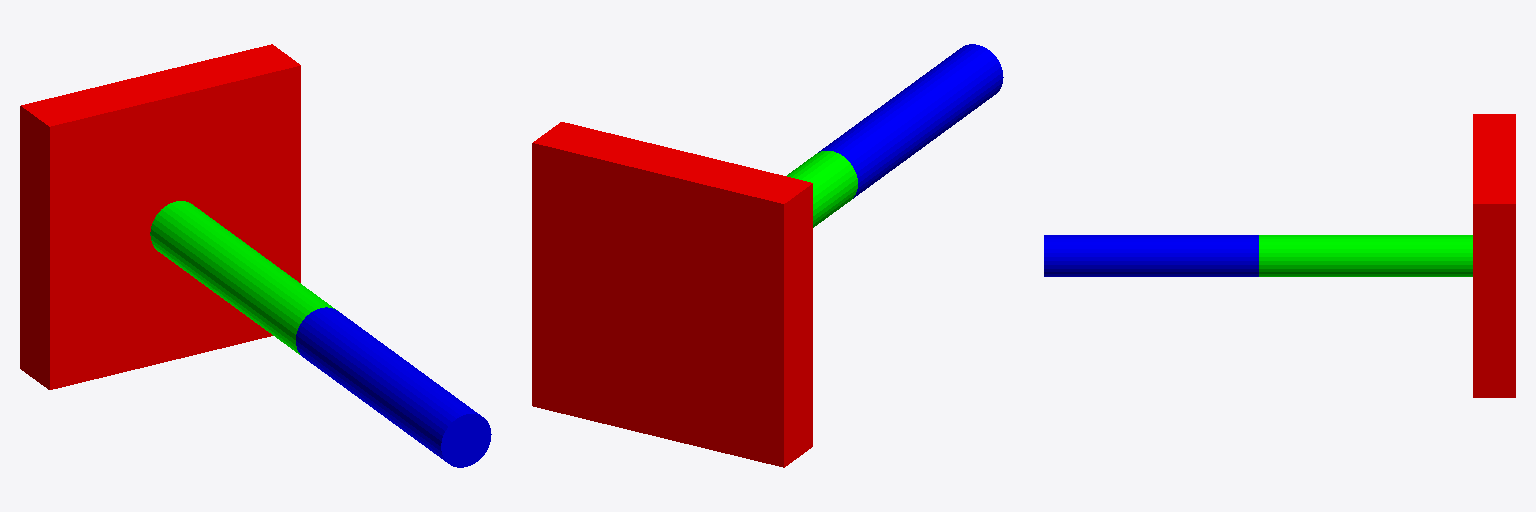
robot.urdf — SimpleDoublePendulum:
<?xml version="1.0"?>
<!-- Comments in this file use frames as defined in the C++ Doxygen module
"Frames and Bodies",
<<<<<<< HEAD
https://drake.mit.edu/doxygen_cxx/group__multibody__frames__and__bodies.html.
=======
http://drake.mit.edu/doxygen_cxx/group__multibody__frames__and__bodies.html.
>>>>>>> intial
In particular, this file refers to the link frame L, the body frame B, the
inertia frame I and the joint inboard frame F. -->
<robot name="SimpleDoublePendulum">
  <!-- Defines some colors to distinguish between the links. -->
  <material name="Red">
    <color rgba="1 0 0 1"/>
  </material>
  <material name="Green">
    <color rgba="0 1 0 1"/>
  </material>
  <material name="Blue">
    <color rgba="0 0 1 1"/>
  </material>
  <!-- The base link (i.e., the link that is not a child of any joint) is
  defined in the world frame. -->
  <link name="base">
    <inertial>
      <origin rpy="0 0 0" xyz="0 0 0"/>
      <mass value="1"/>
      <inertia ixx="0" ixy="0" ixz="0" iyy="0" iyz="0" izz="0"/>
    </inertial>
    <visual>
      <origin xyz="0 0.1 0"/>
      <geometry>
        <box size="1 0.2 1"/>
      </geometry>
      <material name="Red"/>
    </visual>
  </link>
  <link name="upper_arm">
    <inertial>
      <origin rpy="0 0 0" xyz="0 -0.5 0"/>
      <mass value="1"/>
      <inertia ixx="0" ixy="0" ixz="0" iyy="0" iyz="0" izz="0"/>
    </inertial>
    <!-- The visual geometry is a cylinder defined in the visualization frame,
    V. The cylinder's radius is about its +Z axis. Since the link's frame, B,
    is oriented such that its +Y axis is up, we need to rotate frame V by PI / 2
    about its +X axis (roll) to make the cylinder upright in frame B. -->
    <visual>
      <!-- This provides the pose X_BV of the visual frame V measured and
      expressed in the body frame B. -->
      <origin rpy="1.57079632679 0 0" xyz="0 -0.5 0"/>
      <geometry>
        <cylinder length="1.0" radius="0.1"/>
      </geometry>
      <material name="Green"/>
    </visual>
  </link>
  <link name="lower_arm">
    <inertial>
      <origin rpy="0 0 0" xyz="0 -0.5 0"/>
      <mass value="1"/>
      <inertia ixx="0" ixy="0" ixz="0" iyy="0" iyz="0" izz="0"/>
    </inertial>
    <!-- The visual geometry is a cylinder defined in the visualization frame,
    V. The cylinder's radius is about its +Z axis. Since the link's frame, B,
    is oriented such that its +Y axis is up, we need to rotate frame V by PI / 2
    about its +X axis (roll) to make the cylinder upright in frame B. -->
    <visual>
      <!-- This provides the pose X_BV of the visual frame V measured and
      expressed in the body frame B. -->
      <origin rpy="1.57079632679 0 0" xyz="0 -0.5 0"/>
      <geometry>
        <cylinder length="1.0" radius="0.1"/>
      </geometry>
      <material name="Blue"/>
    </visual>
  </link>
  <joint name="joint1" type="continuous">
    <parent link="base"/>
    <child link="upper_arm"/>
    <origin rpy="0 0 0" xyz="0 0.0 0"/>
    <axis xyz="0 0 1"/>
    <dynamics damping="0.1"/>
  </joint>
  <joint name="joint2" type="continuous">
    <parent link="upper_arm"/>
    <child link="lower_arm"/>
    <origin rpy="0 0 0" xyz="0 -1.0 0"/>
    <axis xyz="0 0 1"/>
    <dynamics damping="0.1"/>
  </joint>
  <!-- The following are color specifications for use by the Gazebo simulator.
  They are needed to visualize link colors in Gazebo. -->
  <gazebo reference="base">
    <material>Gazebo/Red</material>
  </gazebo>
  <gazebo reference="upper_arm">
    <material>Gazebo/Green</material>
  </gazebo>
  <gazebo reference="lower_arm">
    <material>Gazebo/Blue</material>
  </gazebo>
</robot>

--- Render facts (derived) ---
Views: 3 orthographic renders of the robot side by side, from view 1: azimuth 30°, elevation 25°; view 2: azimuth 150°, elevation 25°; view 3: azimuth 270°, elevation 25°.
Robot: SimpleDoublePendulum — 3 links, 2 joints (2 continuous); root link base; default pose: every joint at zero.
Links seen in each view (by area): view 1: base, lower_arm, upper_arm; view 2: base, lower_arm, upper_arm; view 3: base, lower_arm, upper_arm.
Link boxes in pixels (x1,y1,x2,y2): base: [20, 44, 300, 389]; lower_arm: [296, 307, 491, 467]; upper_arm: [150, 201, 337, 354]; base: [532, 122, 812, 467]; lower_arm: [818, 44, 1003, 198]; upper_arm: [787, 151, 857, 227]; base: [1473, 114, 1515, 397]; lower_arm: [1044, 235, 1258, 276]; upper_arm: [1259, 235, 1472, 276].
Bounding box of the posed robot: 1 × 2.2 × 1 m (x, y, z).
Geometry: primitives only (box / cylinder / sphere), no mesh files.